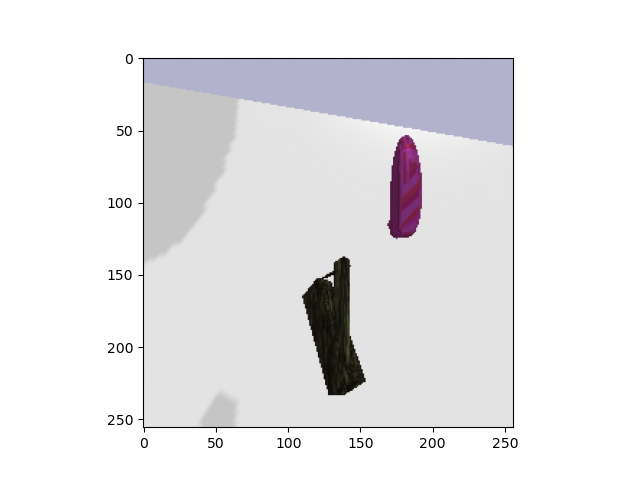v249b387_105: (385, 133, 431, 249)
v249b387_109: (300, 253, 380, 404)
